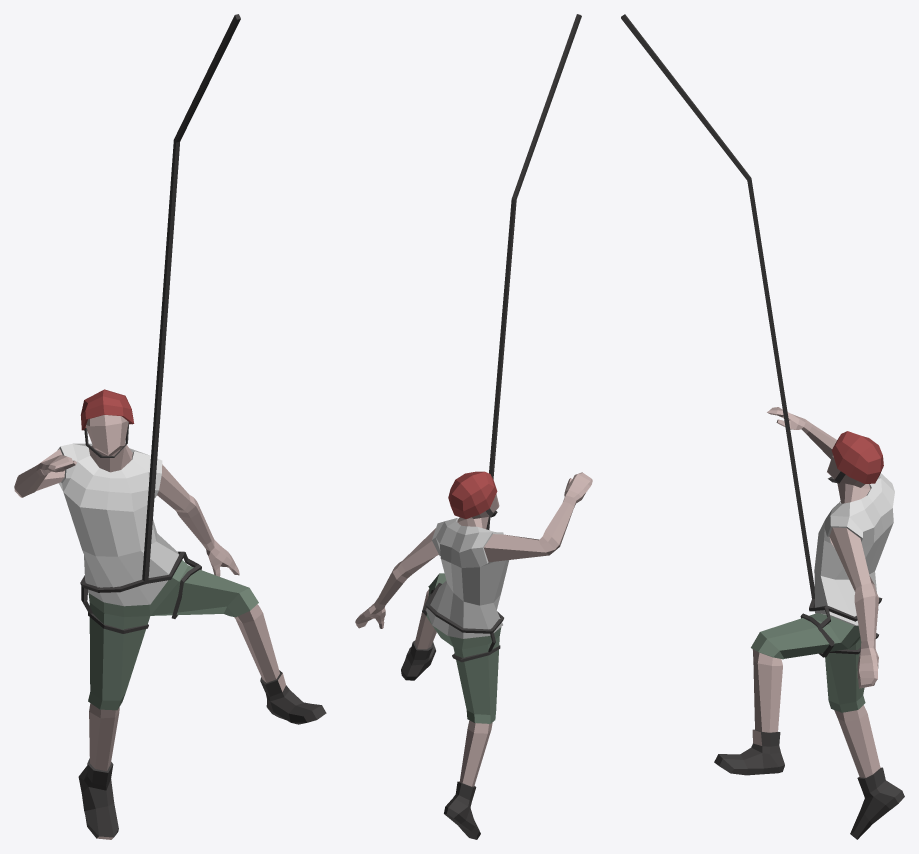
Rendered from Climbing_man.gltf.
3 renders of one model, left to right at view 1: azimuth 30°, elevation 25°; view 2: azimuth 150°, elevation 25°; view 3: azimuth 270°, elevation 25°, orthographic. The views are drawn at different scales.
Parts seen in each view (by area): view 1: Model_climbing_Untitled; view 2: Model_climbing_Untitled; view 3: Model_climbing_Untitled.
Part boxes in pixels (box(x1,y1,x2,y2)): Model_climbing_Untitled: box(14, 14, 326, 839); Model_climbing_Untitled: box(355, 14, 592, 839); Model_climbing_Untitled: box(621, 14, 904, 839).
Bounding box in the file's own units: 0.557 × 1.96 × 0.6125.
